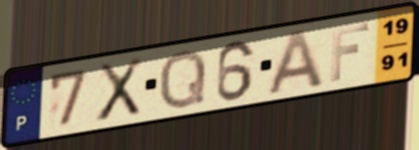6: (214, 37, 257, 104)
7: (47, 66, 89, 129)
A: (264, 26, 328, 98)
F: (328, 20, 372, 84)
Q: (156, 47, 209, 112)
X: (93, 54, 145, 126)
